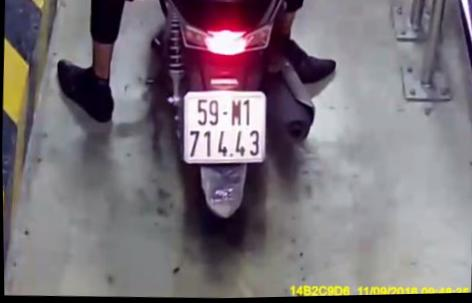LP: (180, 88, 268, 168)
